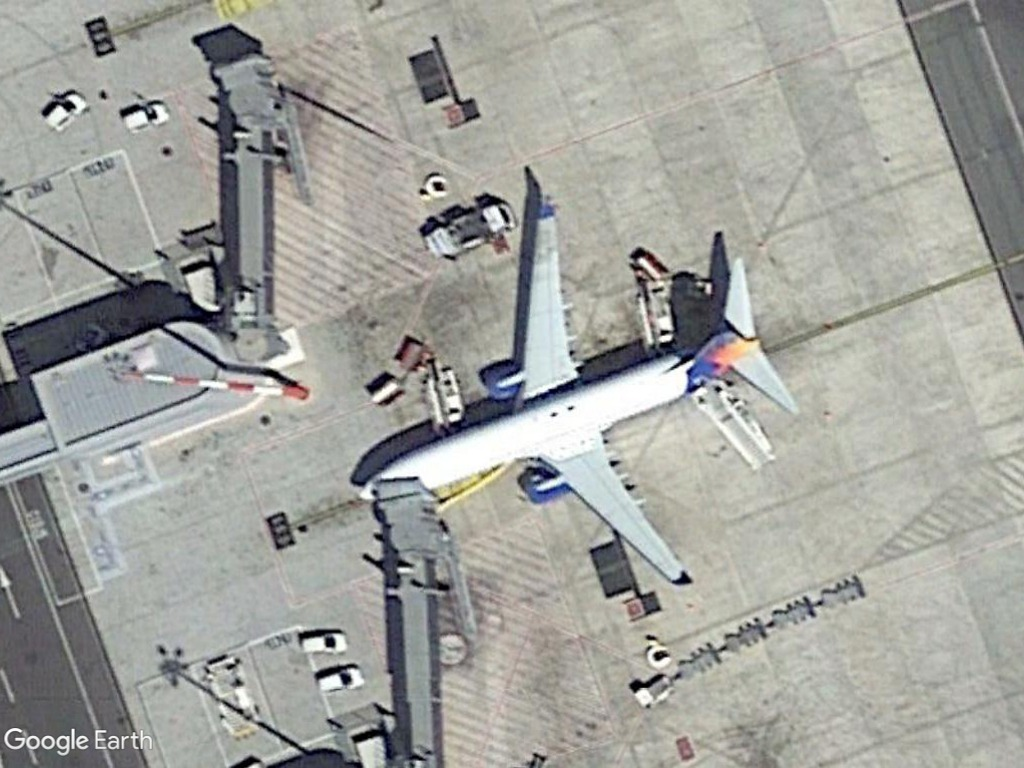airliner: (335, 195, 809, 592)
car: (117, 102, 173, 136), (312, 662, 366, 696), (296, 627, 352, 658)
other: (627, 673, 675, 712)
stairtruck: (684, 379, 781, 475)
van: (39, 87, 90, 135)
